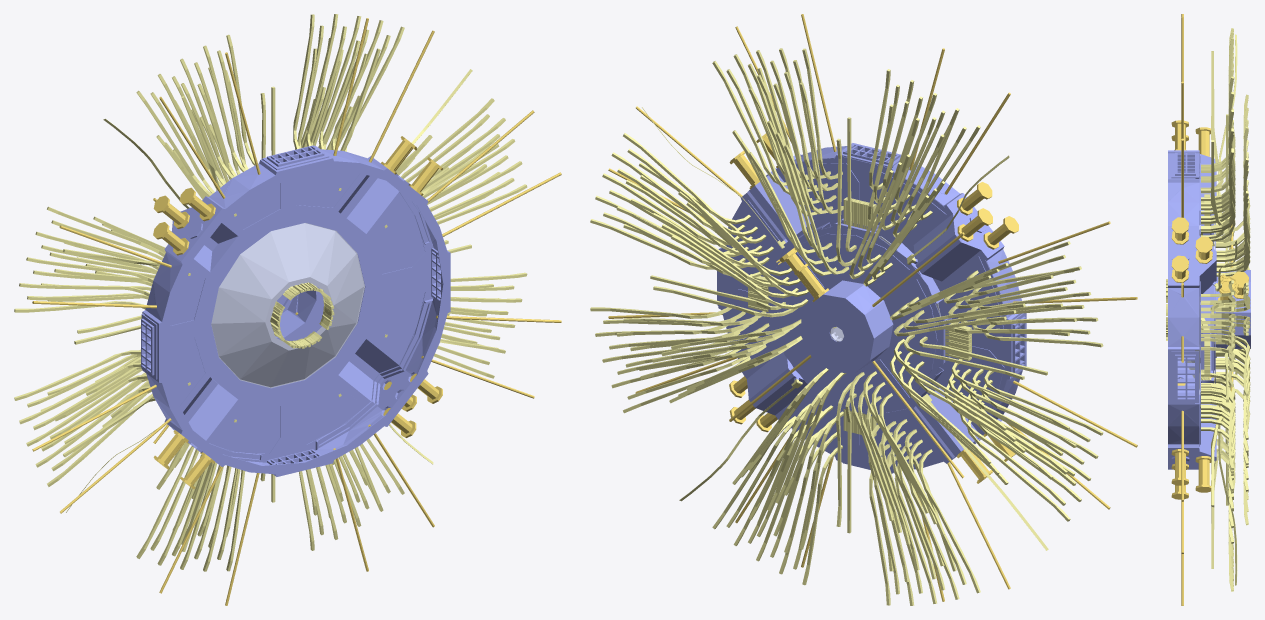
Rendered from pixel-pp1-side-C-cut1.glb.
3 views of the same model, side by side, from view 1: azimuth 30°, elevation 25°; view 2: azimuth 150°, elevation 25°; view 3: azimuth 270°, elevation 25° (orthographic). The views are drawn at different scales.
Parts seen in each view (by area): view 1: _000001AD33070C50_11_IndexedFaceSet, _000001AD33069CC0_02_IndexedFaceSet, _000001AD330776A0_IndexedFaceSet, _000001AD330740D0_IndexedFaceSet; view 2: _000001AD33069CC0_02_IndexedFaceSet, _000001AD33070C50_11_IndexedFaceSet, _000001AD330740D0_IndexedFaceSet; view 3: _000001AD33069CC0_02_IndexedFaceSet, _000001AD33070C50_11_IndexedFaceSet, _000001AD330740D0_IndexedFaceSet, _000001AD330776A0_IndexedFaceSet.
Boxes of the visible parts, x1=… form: _000001AD33070C50_11_IndexedFaceSet: x1=141, y1=145, x2=450, y2=476; _000001AD33069CC0_02_IndexedFaceSet: x1=14, y1=14, x2=527, y2=571; _000001AD330776A0_IndexedFaceSet: x1=211, y1=223, x2=364, y2=387; _000001AD330740D0_IndexedFaceSet: x1=32, y1=18, x2=561, y2=605; _000001AD33069CC0_02_IndexedFaceSet: x1=590, y1=48, x2=1103, y2=605; _000001AD33070C50_11_IndexedFaceSet: x1=717, y1=143, x2=1026, y2=473; _000001AD330740D0_IndexedFaceSet: x1=608, y1=14, x2=1137, y2=601; _000001AD33069CC0_02_IndexedFaceSet: x1=1166, y1=28, x2=1250, y2=591; _000001AD33070C50_11_IndexedFaceSet: x1=1168, y1=150, x2=1250, y2=469; _000001AD330740D0_IndexedFaceSet: x1=1171, y1=14, x2=1248, y2=605; _000001AD330776A0_IndexedFaceSet: x1=1185, y1=229, x2=1200, y2=390.
Size of the model in its own units: 2.54 by 2.54 by 0.3741.
